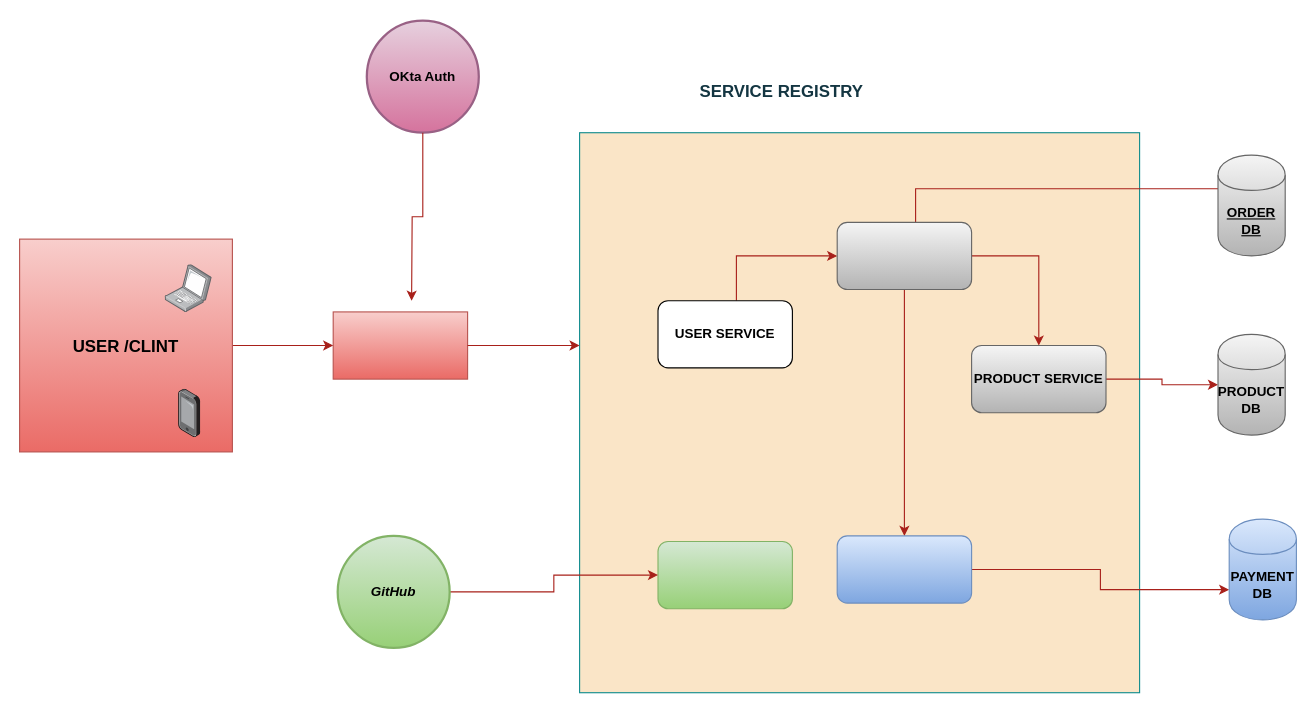
This 1316x712 diagram has some shape labels left out. Each missing label, with the box of its shape:
API GATEWAY: (332, 311, 468, 379)
CONFIG SERVER: (657, 540, 792, 609)
ORDER SERVICE: (836, 221, 972, 290)
PAYMENT SERVICE: (836, 535, 972, 603)
